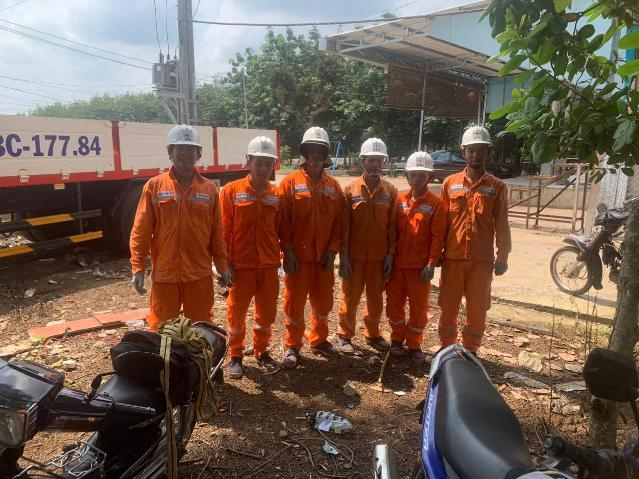gloves: (279, 239, 302, 277), (334, 249, 355, 283), (132, 269, 149, 298), (421, 258, 438, 284), (382, 249, 396, 280), (320, 247, 336, 274), (224, 261, 237, 293), (492, 260, 512, 277), (216, 269, 232, 288)
helmet: (166, 120, 208, 154), (295, 124, 338, 155), (246, 132, 284, 166), (456, 122, 498, 151), (404, 149, 439, 176), (363, 135, 391, 168)
shoes: (335, 326, 360, 360), (224, 350, 248, 381), (360, 328, 391, 352), (312, 333, 342, 357), (257, 350, 280, 373), (283, 342, 301, 368), (409, 340, 428, 364), (464, 344, 483, 362), (390, 336, 404, 357)
